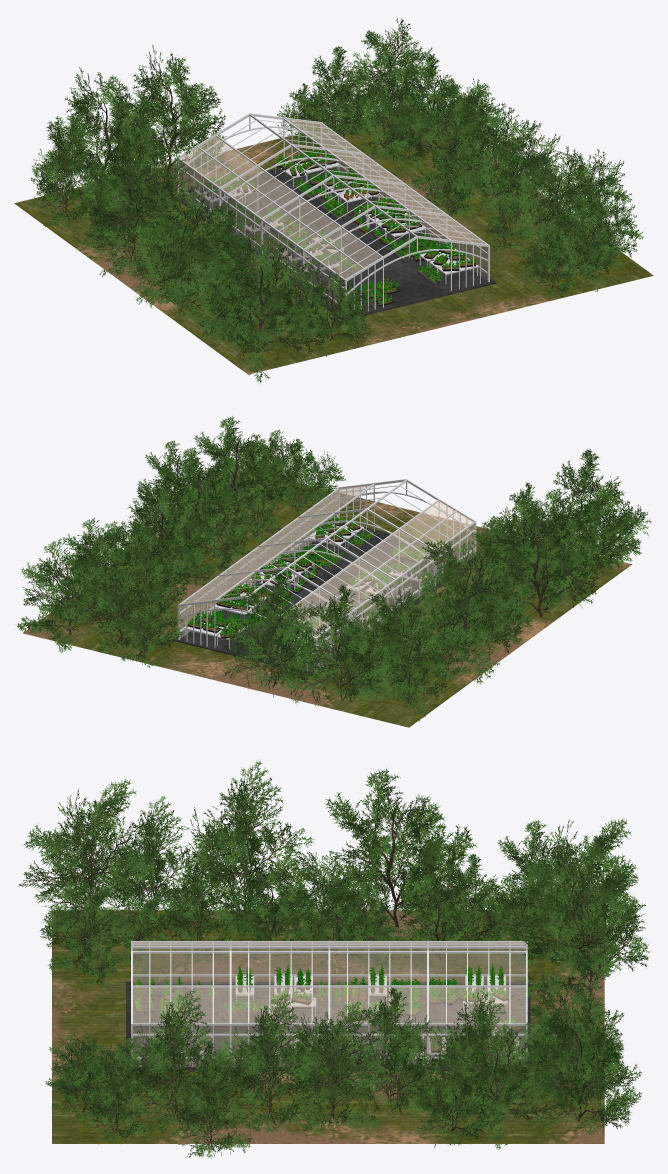
The model's file is terrarium.glb.
3 views of the same model, one above another, from view 1: azimuth 30°, elevation 25°; view 2: azimuth 150°, elevation 25°; view 3: azimuth 270°, elevation 25° (orthographic). The views are drawn at different scales.
Parts seen in each view (by area): view 1: Ground, GreenHouseStructure, Floor, Bush, Bush.012, Bush.003, Bush.014, Bush.011, Bush.017, Bush.019, Bush.021, Bush.023 (+27 smaller); view 2: Ground, GreenHouseStructure, Bush.012, Bush.003, Bush.014, Bush.011, Floor, Bush.015, Bush, Bush.021, Bush.017, Bush.008 (+27 smaller); view 3: Ground, GreenHouseStructure, Bush.012, Bush.014, Bush, Bush.003, Floor, Bush.015, Bush.019, Bush.020, Bush.011, Bush.017 (+29 smaller).
Part boxes in pixels (bbox=[...]): Ground: bbox=[14, 105, 653, 374]; GreenHouseStructure: bbox=[177, 113, 489, 316]; Floor: bbox=[177, 166, 496, 319]; Bush: bbox=[201, 234, 327, 383]; Bush.012: bbox=[76, 120, 195, 276]; Bush.003: bbox=[128, 185, 243, 323]; Bush.014: bbox=[108, 45, 228, 181]; Bush.011: bbox=[44, 67, 169, 204]; Bush.017: bbox=[513, 146, 611, 258]; Bush.019: bbox=[475, 119, 568, 232]; Bush.021: bbox=[400, 83, 498, 200]; Bush.023: bbox=[356, 74, 435, 170]; Ground: bbox=[23, 473, 631, 727]; GreenHouseStructure: bbox=[177, 479, 476, 672]; Bush.012: bbox=[413, 534, 532, 684]; Bush.003: bbox=[481, 495, 599, 633]; Bush.014: bbox=[220, 571, 324, 703]; Bush.011: bbox=[287, 584, 391, 706]; Floor: bbox=[172, 527, 481, 675]; Bush.015: bbox=[17, 538, 113, 652]; Bush: bbox=[534, 449, 651, 571]; Bush.021: bbox=[112, 481, 214, 589]; Bush.017: bbox=[193, 416, 289, 523]; Bush.008: bbox=[375, 621, 453, 721]; Ground: bbox=[52, 910, 604, 1143]; GreenHouseStructure: bbox=[131, 940, 527, 1067]; Bush.012: bbox=[314, 768, 477, 940]; Bush.014: bbox=[516, 857, 650, 1018]; Bush: bbox=[18, 778, 147, 945]; Bush.003: bbox=[181, 759, 317, 937]; Floor: bbox=[126, 981, 530, 1070]; Bush.015: bbox=[518, 992, 641, 1135]; Bush.019: bbox=[219, 993, 324, 1133]; Bush.020: bbox=[284, 1001, 385, 1134]; Bush.011: bbox=[507, 818, 642, 980]; Bush.017: bbox=[123, 988, 229, 1133].
Bounding box in the file's own units: 53.74 × 16.09 × 51.86.
6 materials, 5 textured.
